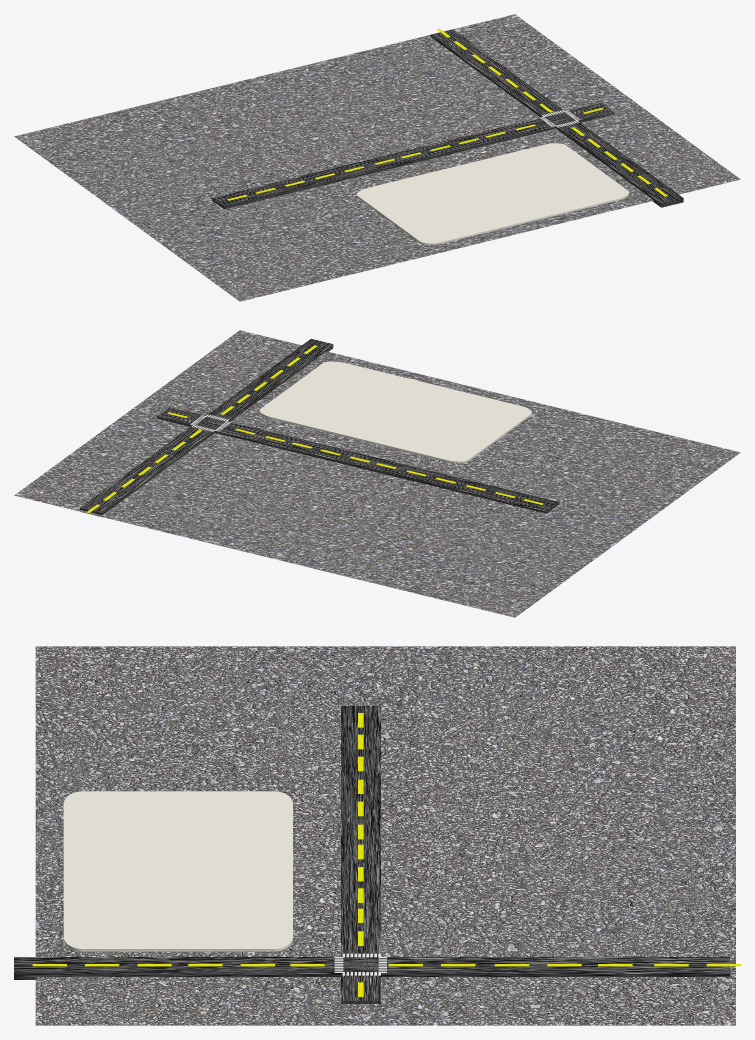
The model's file is gameScene.glb.
The picture shows the model from 3 angles, top to bottom: view 1: azimuth 30°, elevation 25°; view 2: azimuth 150°, elevation 25°; view 3: azimuth 270°, elevation 25°; orthographic projection. The views are drawn at different scales.
Parts seen in each view (by area): view 1: 平面, 立方体, 立方体.001, 立方体.002; view 2: 平面, 立方体, 立方体.001, 立方体.002; view 3: 平面, 立方体, 立方体.002, 立方体.001.
Part boxes in pixels (box(x1,y1,x2,y2)): 平面: box(14, 14, 740, 301); 立方体: box(357, 143, 629, 244); 立方体.001: box(211, 103, 614, 209); 立方体.002: box(430, 29, 683, 207); 平面: box(14, 330, 740, 617); 立方体: box(259, 361, 531, 463); 立方体.001: box(157, 407, 559, 513); 立方体.002: box(80, 339, 333, 517); 平面: box(35, 646, 735, 1025); 立方体: box(63, 791, 292, 951); 立方体.002: box(14, 957, 730, 979); 立方体.001: box(341, 706, 380, 1003).
Bounding box in the file's own units: 31.29 × 0.2546 × 25.35.
32 materials, 2 textured.
